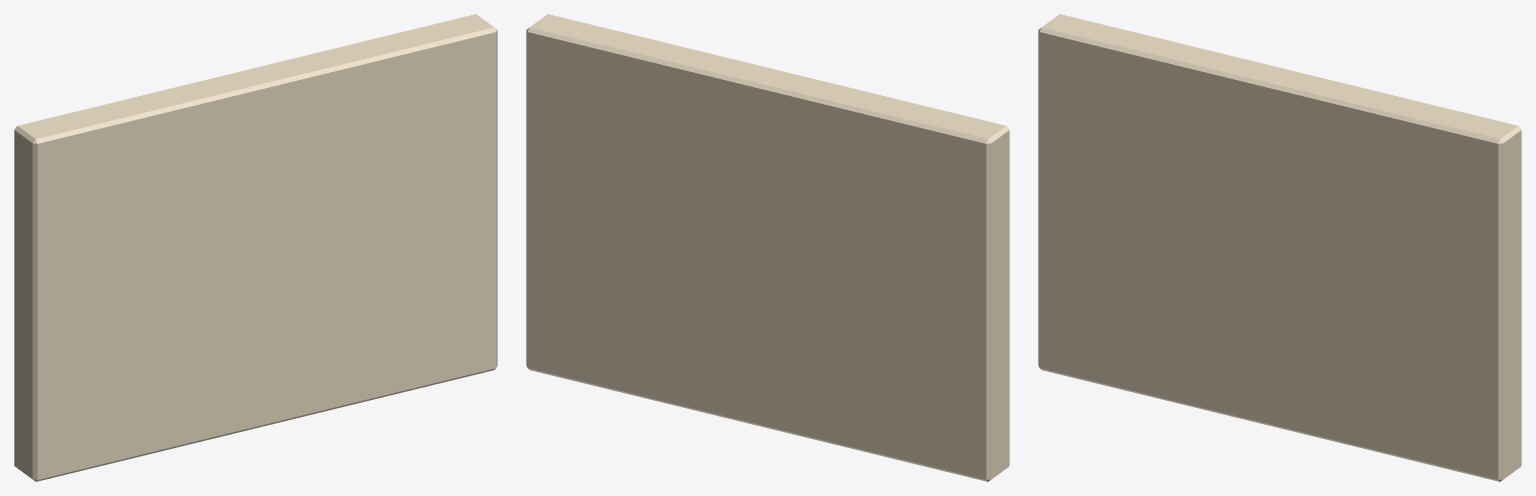
File: schedule-panel.glb
The picture shows the model from 3 angles, left to right: view 1: azimuth 30°, elevation 25°; view 2: azimuth 150°, elevation 25°; view 3: azimuth 330°, elevation 25°; orthographic projection.
Parts seen in each view (by area): view 1: schedule_panel; view 2: schedule_panel; view 3: schedule_panel.
Part boxes in pixels (left/top/right/bottom): schedule_panel: left=14, top=14, right=497, bottom=481; schedule_panel: left=526, top=14, right=1009, bottom=481; schedule_panel: left=1038, top=14, right=1521, bottom=481.
Size of the model in its own units: 2.2 by 1.55 by 0.18.
